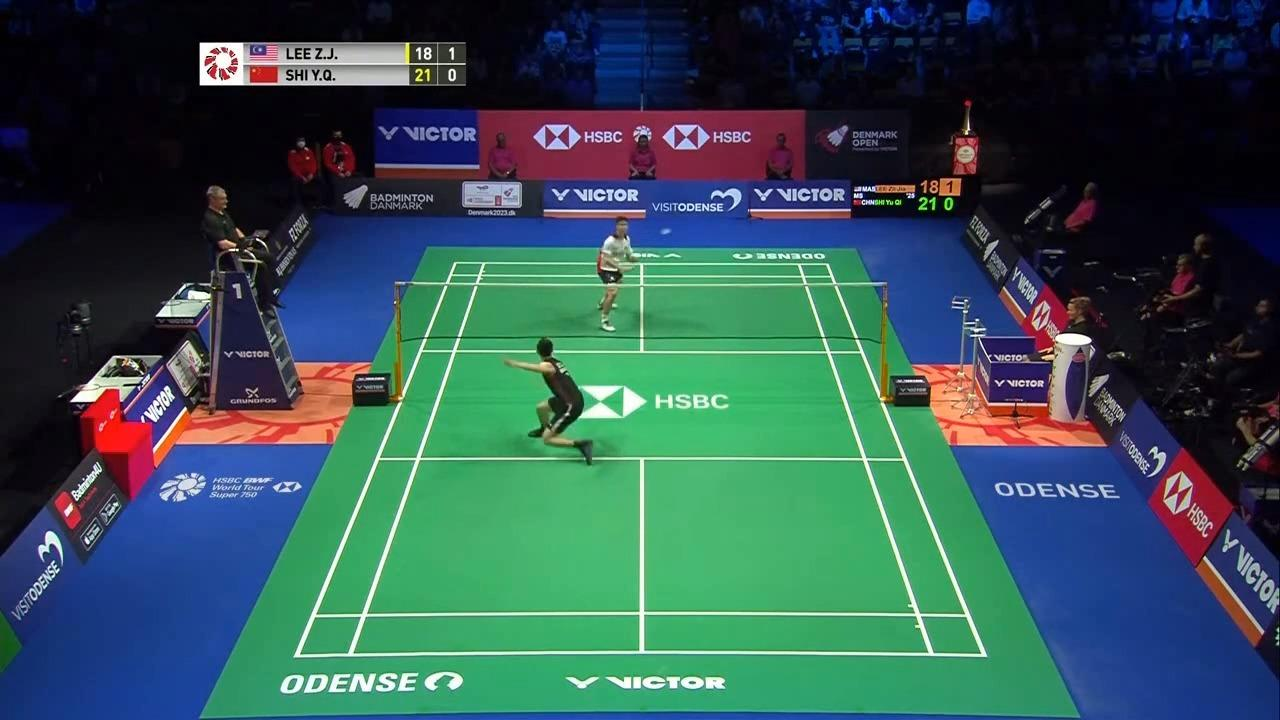shuttle: (661, 228, 675, 235)
